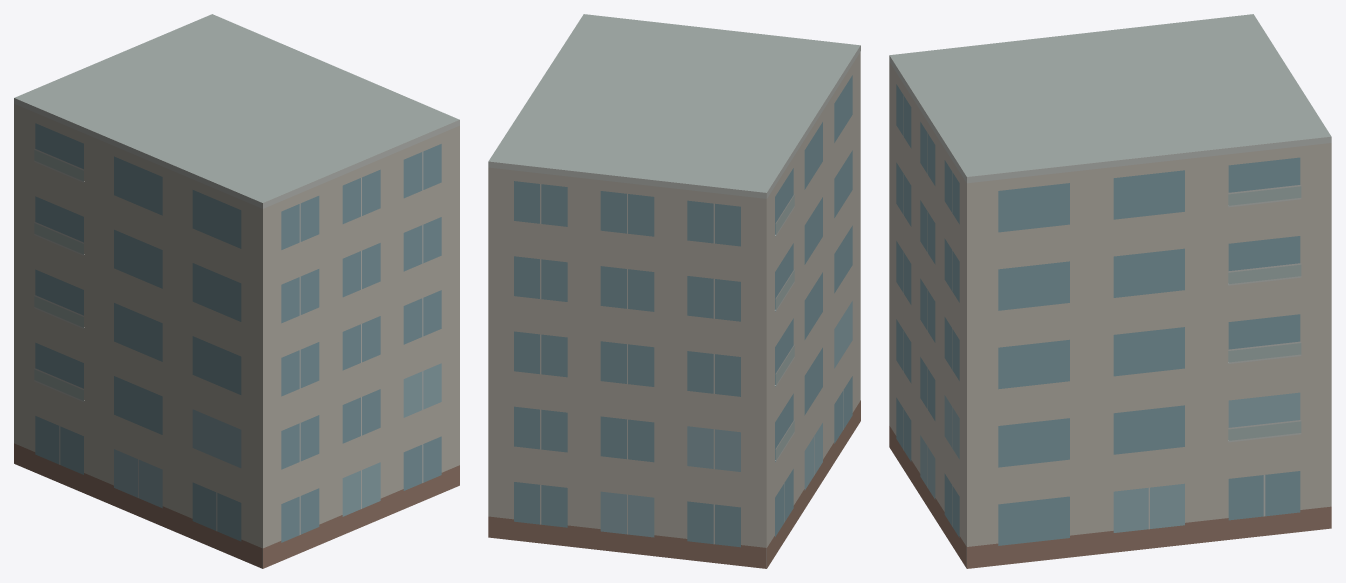
Rendered from survey-upis-32713763.glb.
The picture shows the model from 3 angles, left to right: view 1: azimuth 30°, elevation 25°; view 2: azimuth 150°, elevation 25°; view 3: azimuth 270°, elevation 25°; orthographic projection. The views are drawn at different scales.
Visible parts, largest first — view 1: survey-upis-32713763.tmp; view 2: survey-upis-32713763.tmp; view 3: survey-upis-32713763.tmp.
Part boxes in pixels (left/top/right/bottom): survey-upis-32713763.tmp: left=14, top=14, right=459, bottom=568; survey-upis-32713763.tmp: left=488, top=14, right=860, bottom=568; survey-upis-32713763.tmp: left=889, top=14, right=1331, bottom=568.
Size of the model in its own units: 13.62 by 15.25 by 15.61.
